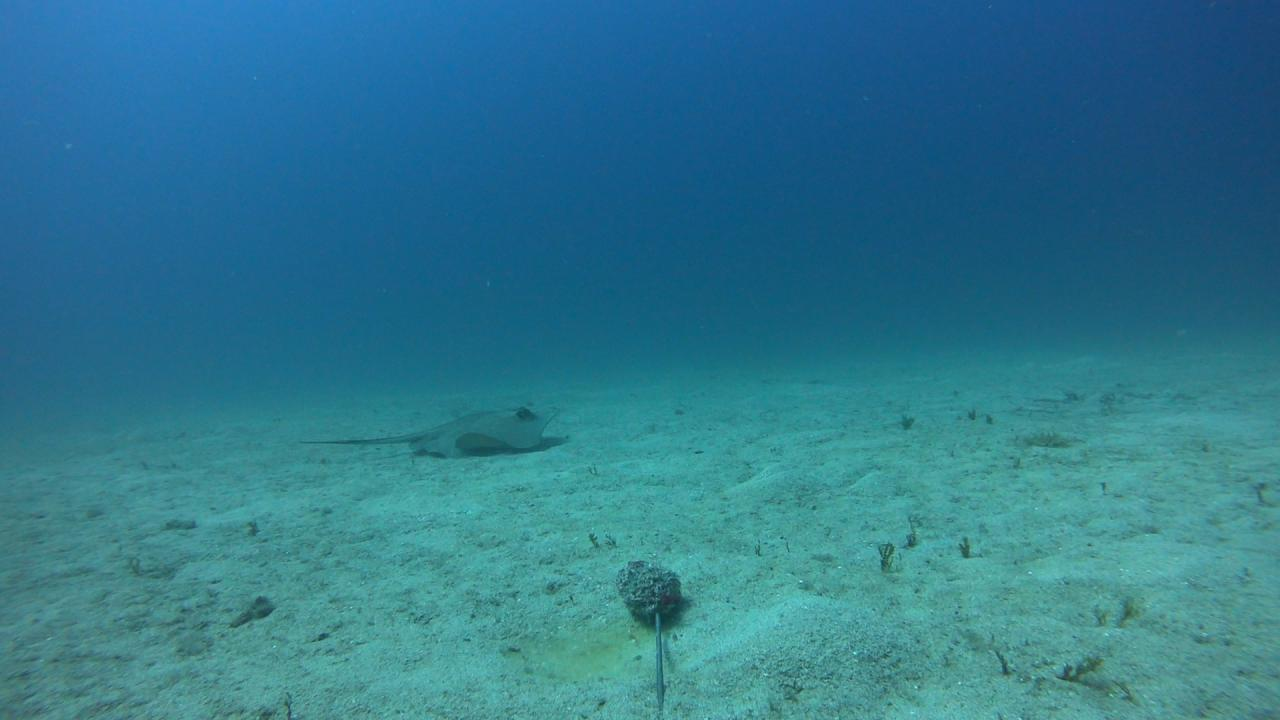dasyatis: (298, 402, 563, 456)
